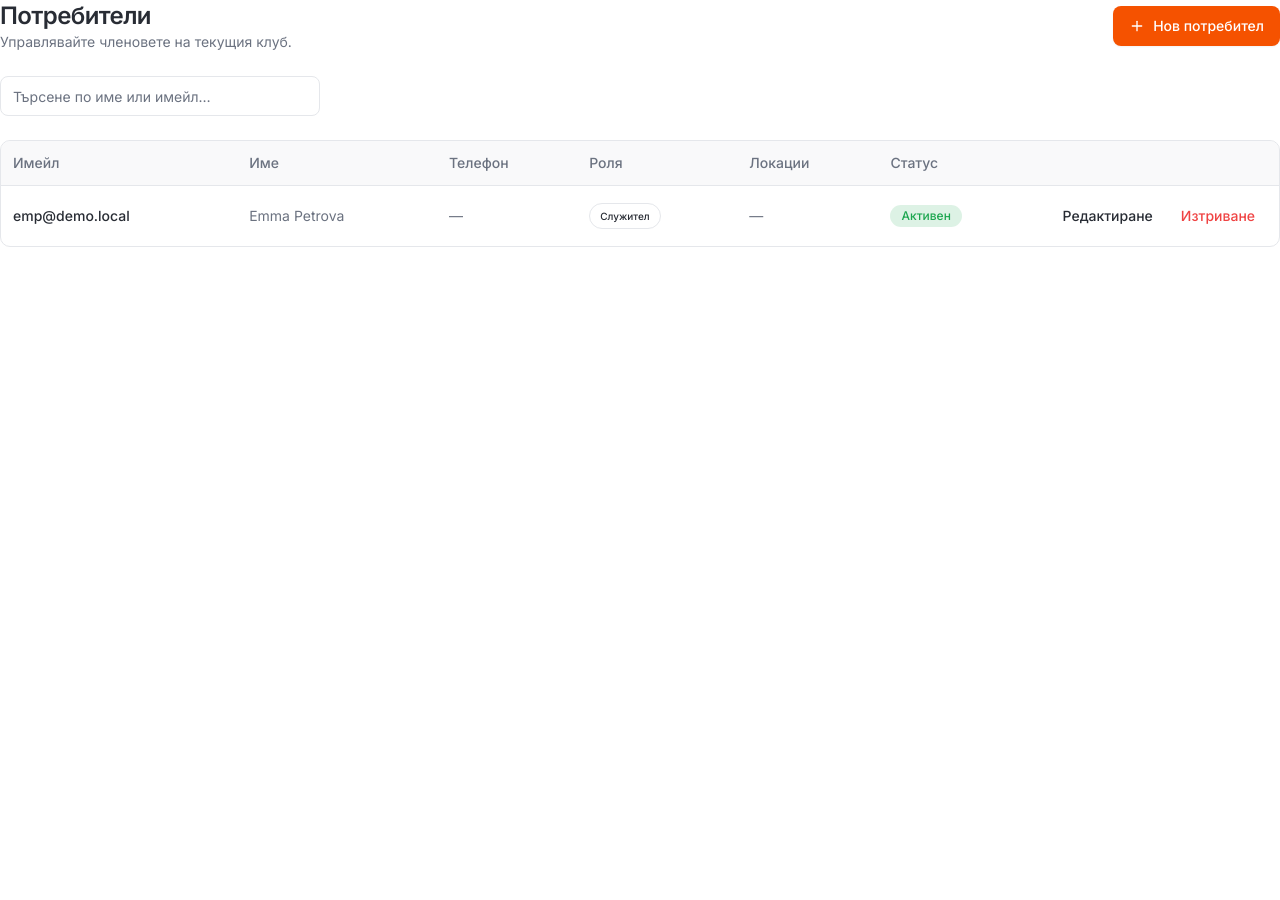
Scenario: Users list — per-actor removal dialog copy › ADMIN sees remove-from-club wording (title, body, confirm button)
The image size is (1280, 900).
Click the button "Изтриване" at (1218, 216), box [1169,198,1267,234]
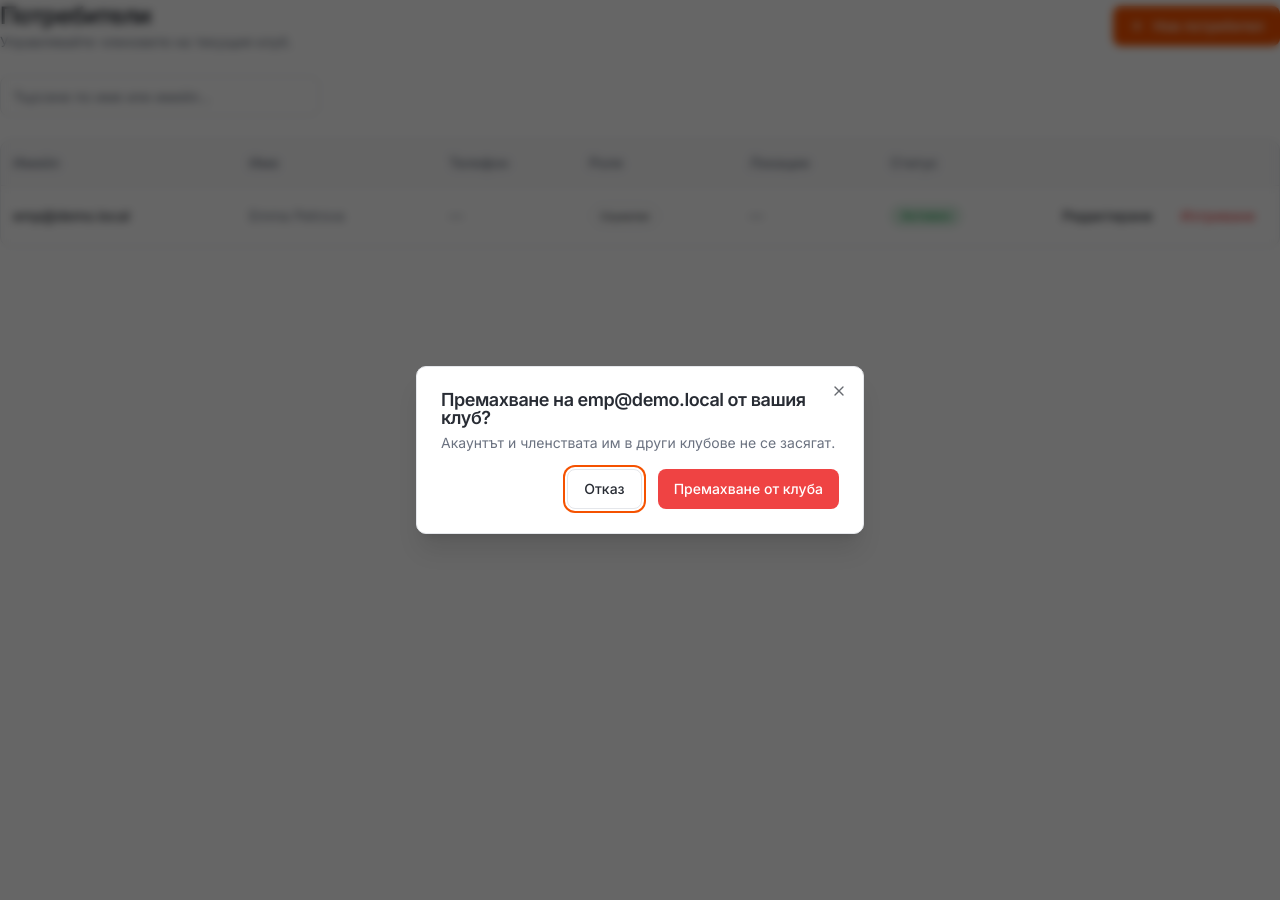
Check: the heading "Премахване на emp@demo.local от вашия клуб?" is shown, box [441,391,839,427]
Check: the text "Акаунтът и членствата им в други клубове не се засягат." is shown, box [441,433,839,453]
Check: the button "Премахване от клуба" is shown, box [658,469,839,509]
